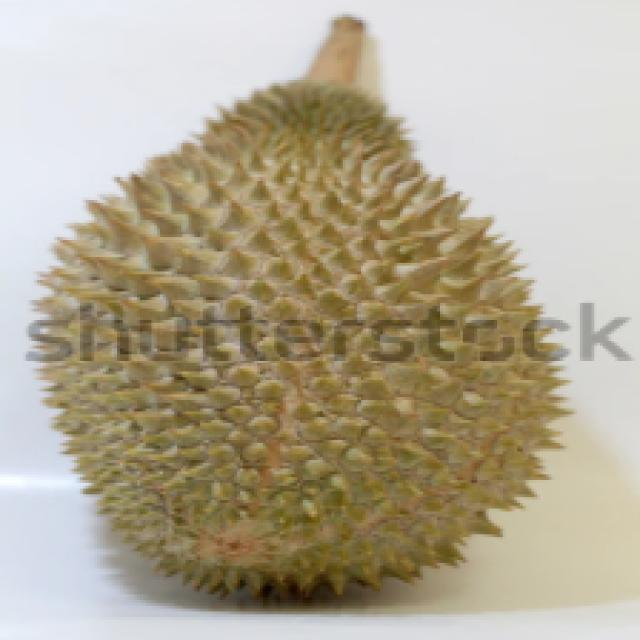d101: (48, 49, 564, 606)
